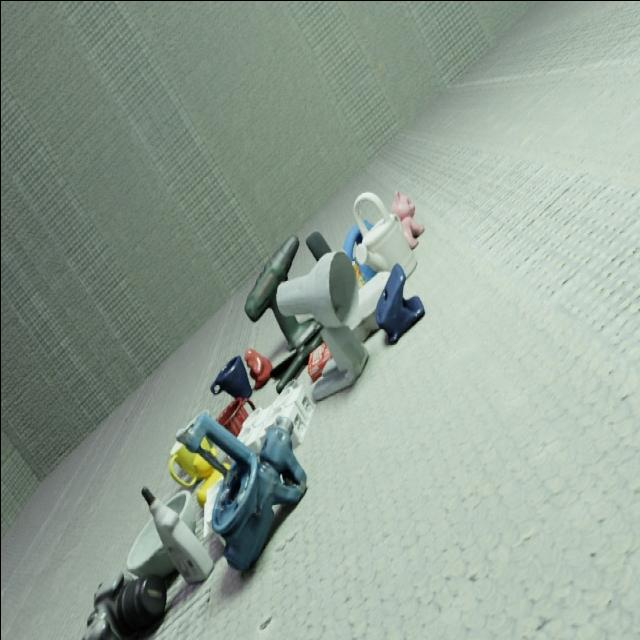Other Objects: (176, 412, 305, 569), (141, 487, 211, 581), (81, 573, 165, 639), (352, 191, 416, 276), (168, 440, 218, 504), (123, 516, 174, 576), (391, 191, 423, 248), (209, 355, 251, 396), (165, 491, 199, 537), (215, 395, 253, 435), (243, 347, 271, 388), (218, 356, 243, 377)
